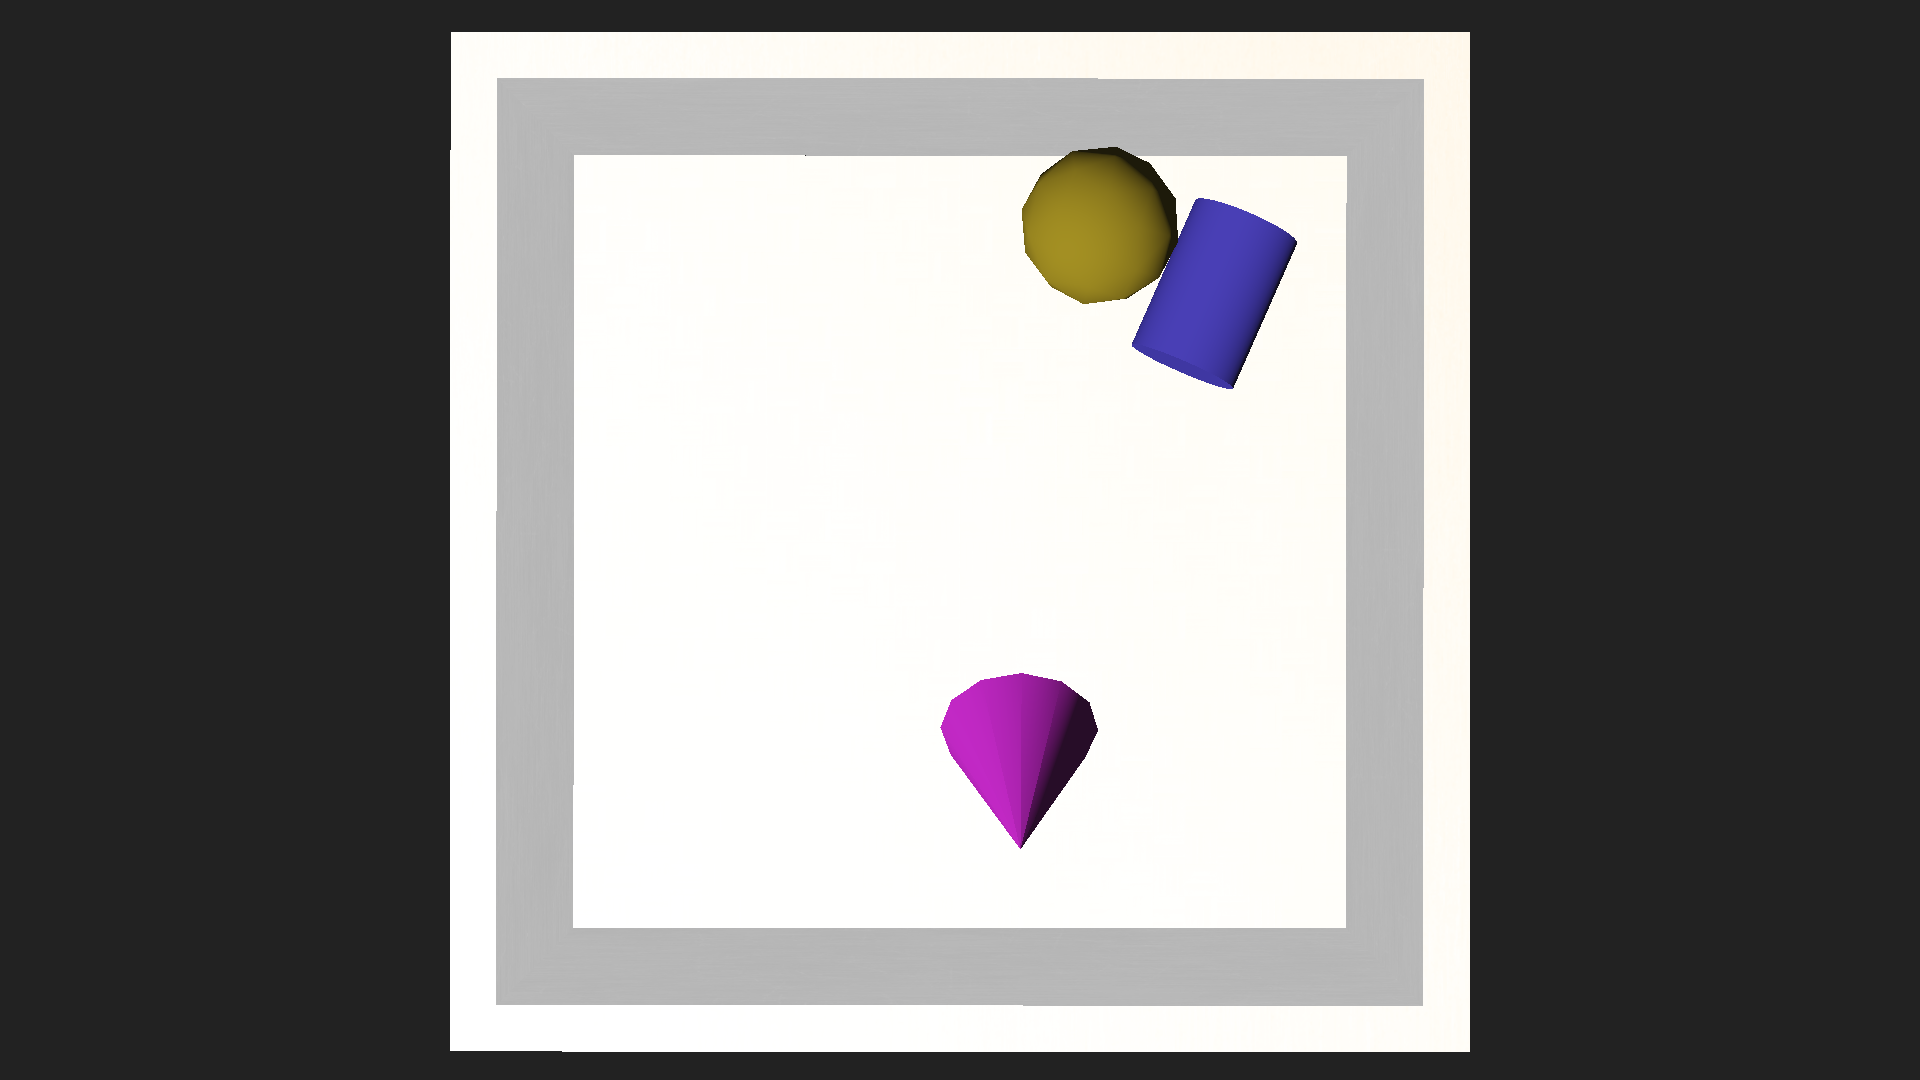cone: (1126, 191, 1304, 393)
cylinder: (943, 671, 1101, 913)
sphere: (1019, 145, 1179, 305)
